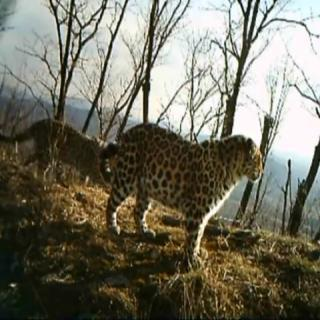Leopard: (100, 106, 262, 250)
